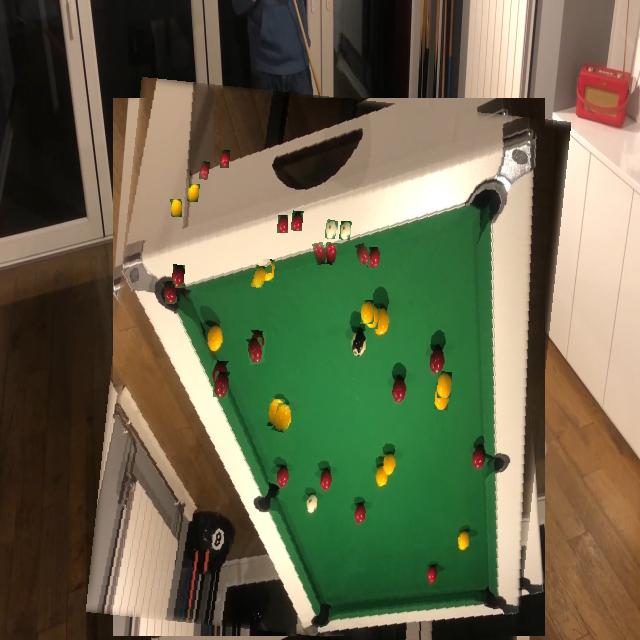Ball: (247, 338, 265, 365), (273, 404, 290, 432), (213, 372, 230, 398), (294, 381, 309, 407), (438, 371, 452, 398), (257, 253, 272, 275), (356, 242, 370, 265), (163, 281, 177, 304), (361, 300, 374, 324), (252, 266, 266, 288), (313, 243, 326, 265), (326, 220, 338, 239), (277, 216, 288, 236), (171, 199, 182, 217), (199, 162, 210, 180)
Billiard table: (99, 87, 558, 640)
